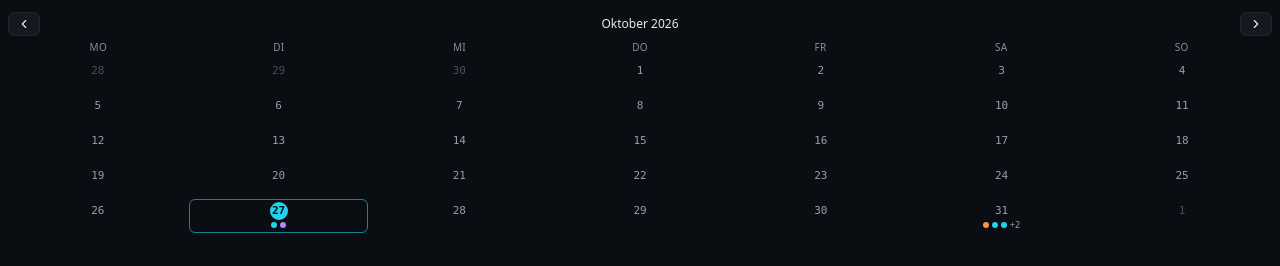
it: the month › stops paging where the entries stop
Click the button named "Next". click: x=1256, y=24
box: [1240,12,1272,36]
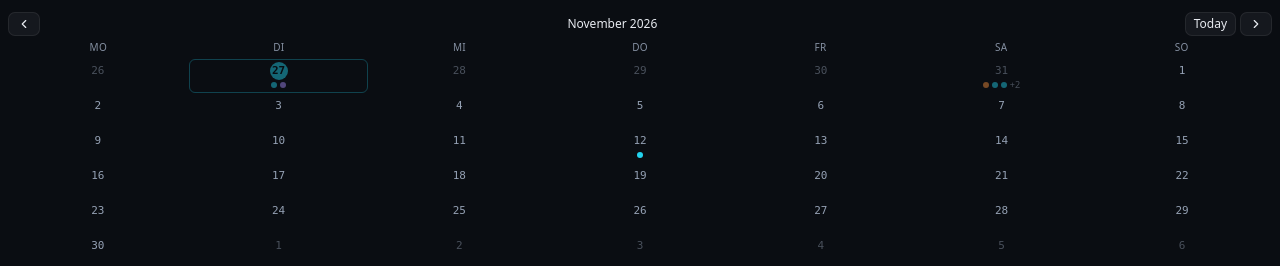
Click the button named "Next". click: x=1256, y=24
box: [1240,12,1272,36]
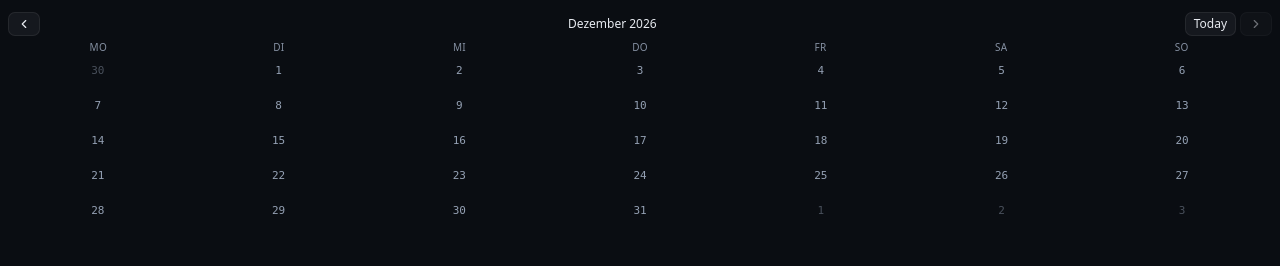
expect the button named "Next" is disabled: met, box [1240,12,1272,36]
expect the text with test id "calendar-title" reads "Dezember 2026": met, box [568,15,657,32]
Click the button "Today". click: x=1210, y=24
box: [1185,12,1236,36]
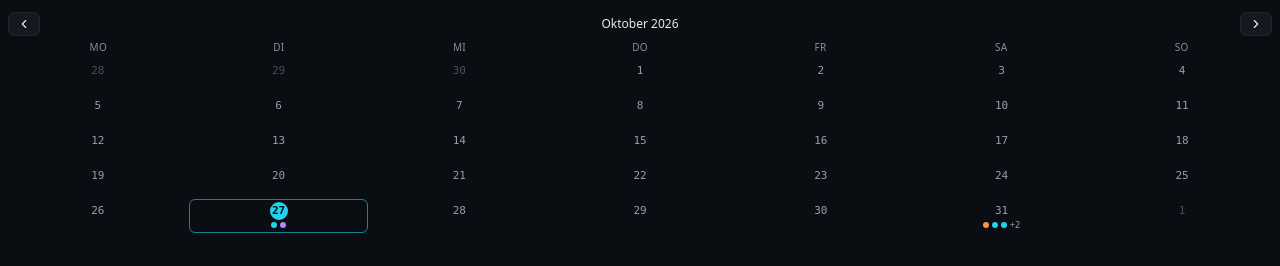
Click the button named "Previous". click: x=24, y=24
box: [8,12,40,36]
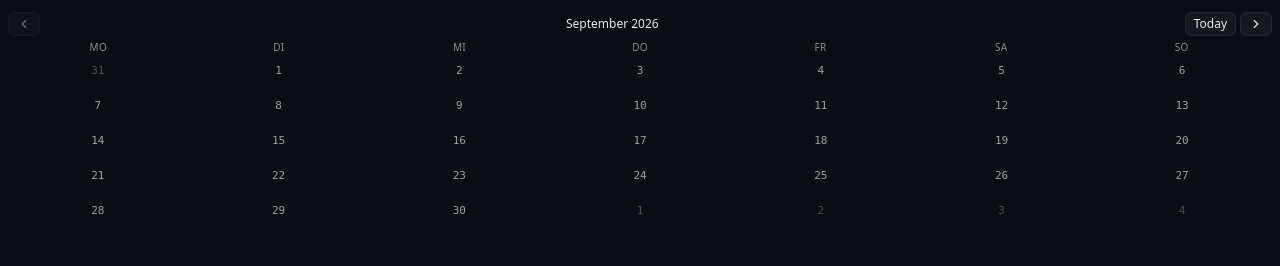
expect the button named "Previous" is disabled: met, box [8,12,40,36]
